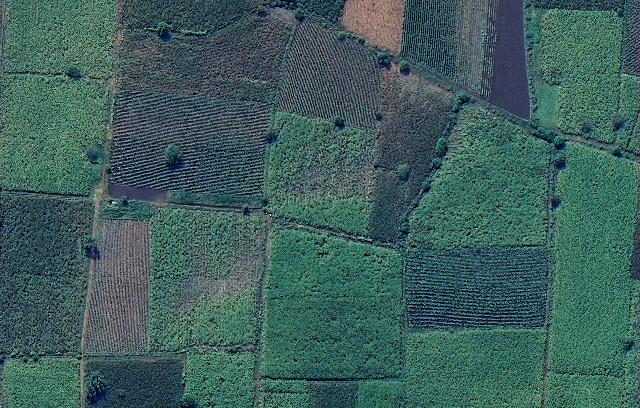DryFarms: (337, 0, 404, 57)
EmptyFarms: (492, 0, 531, 123)
Farms: (265, 58, 463, 245), (546, 138, 640, 408), (259, 227, 404, 382), (407, 102, 551, 244), (119, 0, 297, 103), (111, 88, 275, 199), (149, 208, 266, 353), (0, 192, 98, 357), (1, 74, 111, 196), (528, 5, 624, 144), (276, 11, 386, 130), (406, 245, 546, 328), (404, 330, 548, 408), (82, 216, 152, 353), (405, 0, 499, 101), (3, 0, 117, 80), (86, 358, 184, 408), (1, 357, 83, 408), (188, 351, 257, 408)
